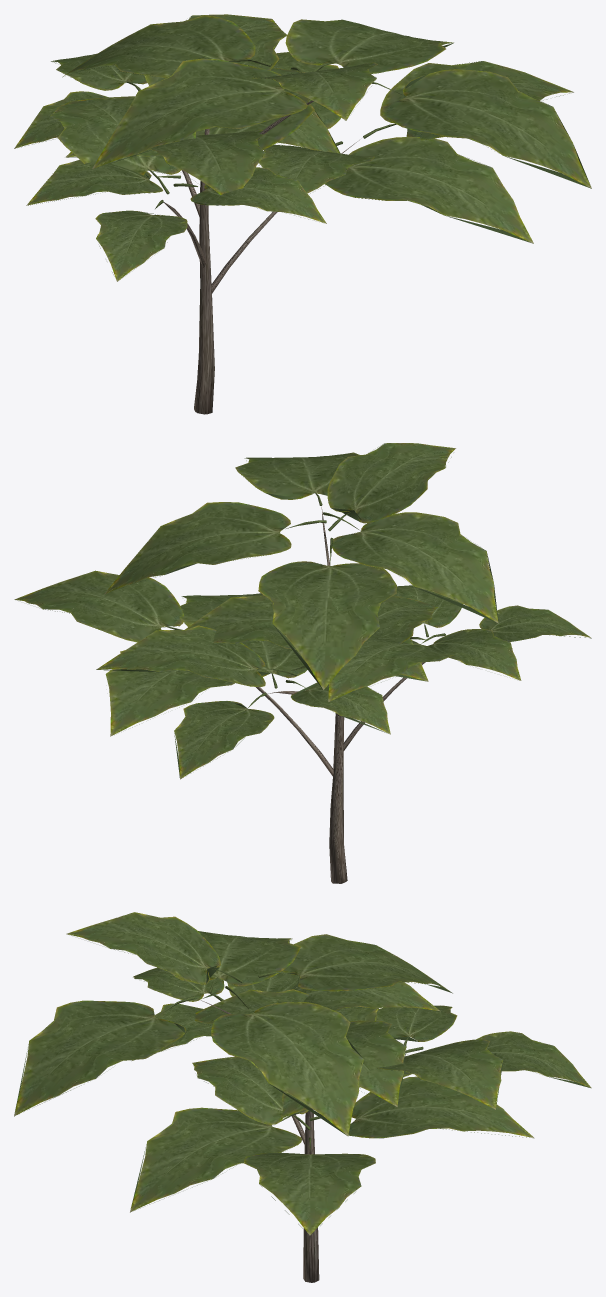
Rendered from broussonetia-1-lite.glb.
3 renders of one model, top to bottom at view 1: azimuth 30°, elevation 25°; view 2: azimuth 150°, elevation 25°; view 3: azimuth 270°, elevation 25°, orthographic. The views are drawn at different scales.
Visible parts, largest first — view 1: leaf, bark, leaf-edge, stem; view 2: leaf, bark, leaf-edge, stem; view 3: leaf, bark, leaf-edge, stem.
Part boxes in pixels (box(x1,y1,x2,y2)): leaf: box(14, 14, 591, 281); bark: box(163, 100, 359, 414); leaf-edge: box(14, 15, 591, 279); stem: box(126, 59, 405, 208); leaf: box(14, 443, 590, 779); bark: box(256, 507, 425, 883); leaf-edge: box(43, 444, 591, 777); stem: box(165, 492, 445, 707); leaf: box(14, 912, 591, 1235); bark: box(198, 999, 319, 1282); leaf-edge: box(14, 949, 590, 1233); stem: box(157, 968, 423, 1149).
Size of the model in its own units: 0.4563 by 0.3119 by 0.4562.
Materials: 5 (4 with a texture image).
